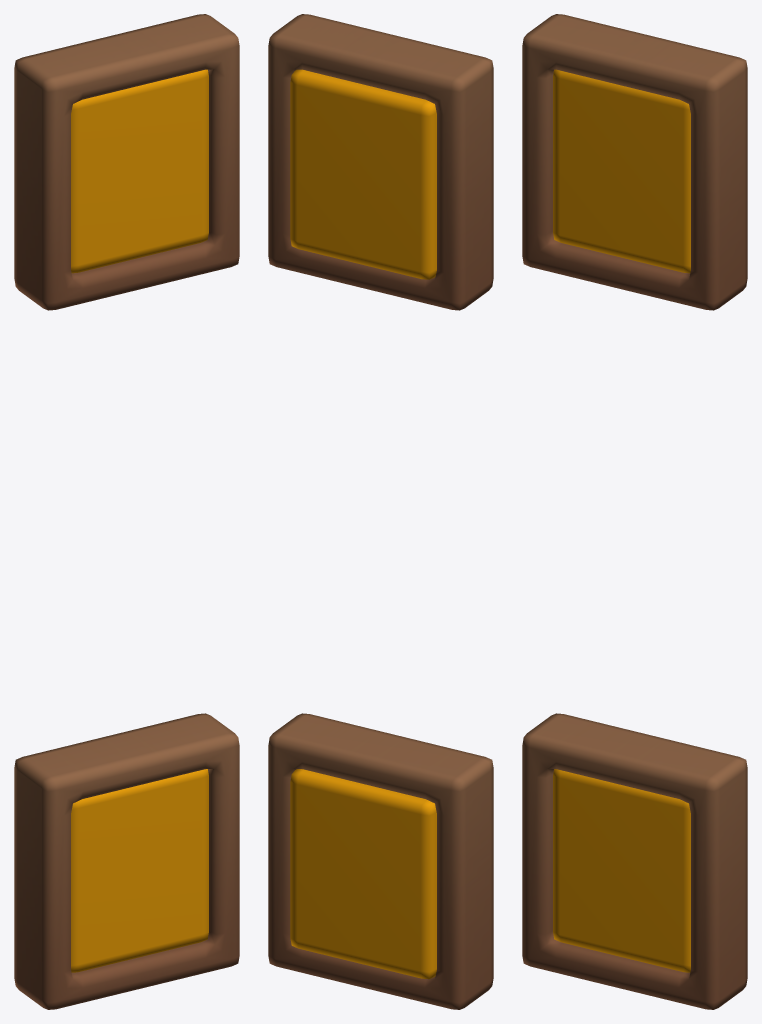
File: SM_Clay_Window_04.fbx
The picture shows the model from 3 angles, left to right: view 1: azimuth 30°, elevation 25°; view 2: azimuth 150°, elevation 25°; view 3: azimuth 330°, elevation 25°; orthographic projection.
Parts seen in each view (by area): view 1: SM_Clay_Window_04; view 2: SM_Clay_Window_04; view 3: SM_Clay_Window_04.
Part boxes in pixels (x1=…): SM_Clay_Window_04: x1=14, y1=14, x2=239, y2=1009; SM_Clay_Window_04: x1=268, y1=14, x2=493, y2=1009; SM_Clay_Window_04: x1=522, y1=14, x2=747, y2=1009.
Bounding box in the file's own units: 0.2926 × 1.34 × 0.1029.
2 materials, 1 textured.
